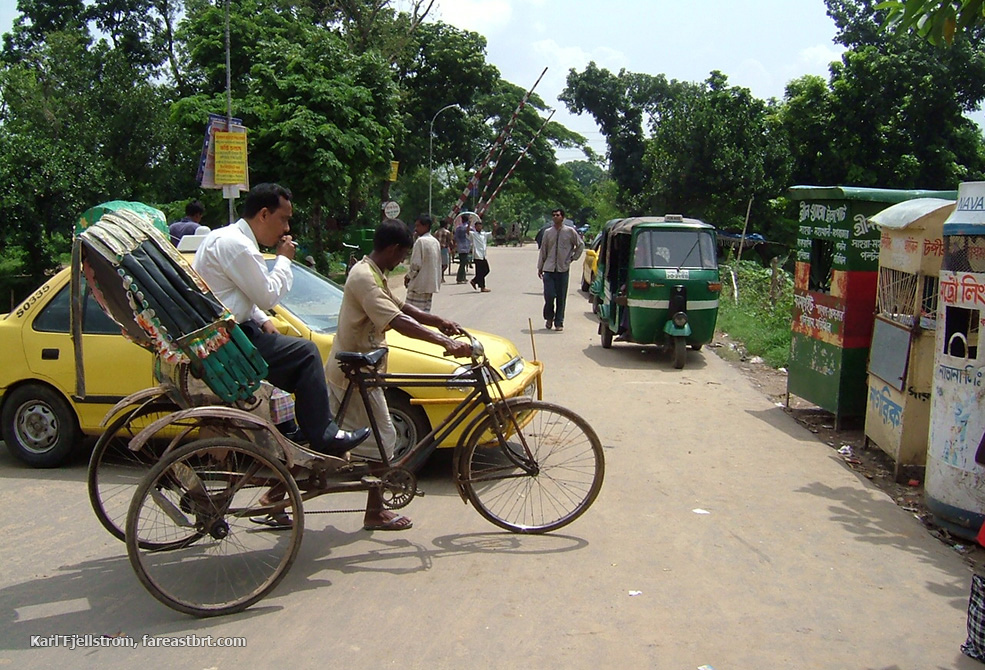rickshaw: (78, 211, 605, 618)
taxi: (1, 253, 542, 463), (581, 227, 601, 288)
three wheelers (CNG): (600, 216, 720, 368)
